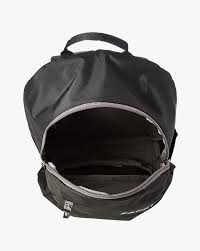backpack: (22, 31, 178, 221)
